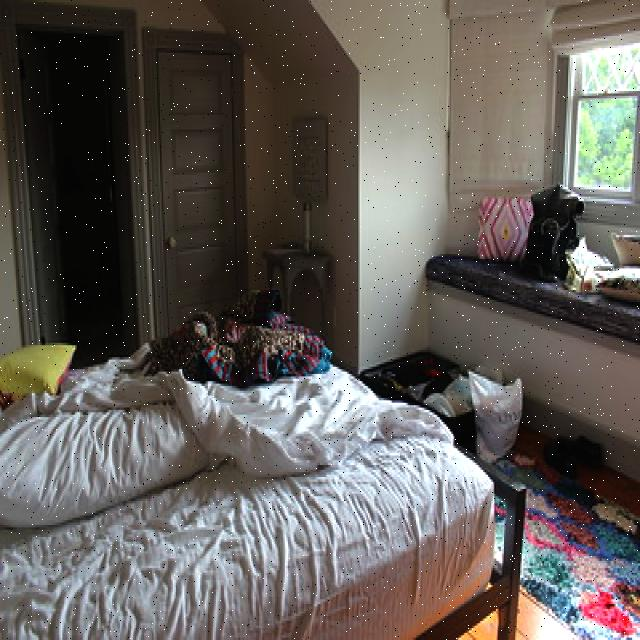bed: (0, 309, 501, 640)
